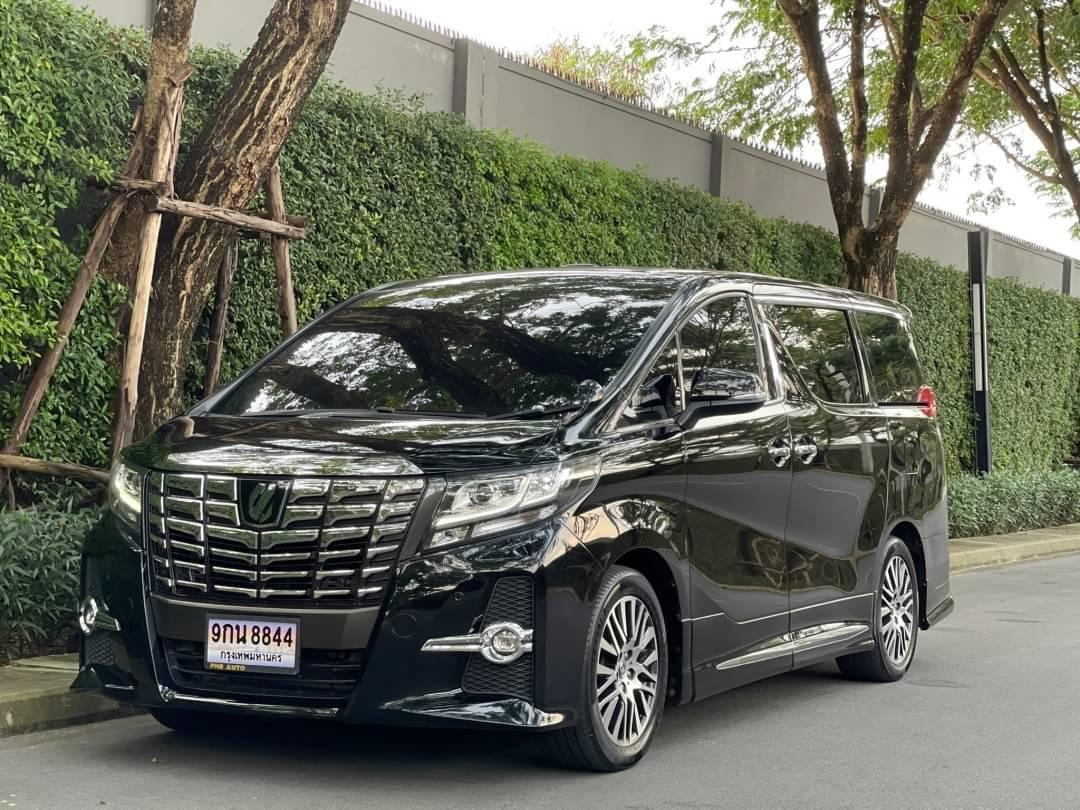license-plate: (202, 609, 302, 680)
